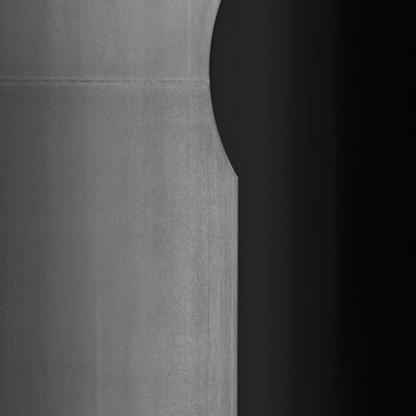crescent_gap: (203, 0, 265, 180)
welding_line: (0, 67, 215, 96)
